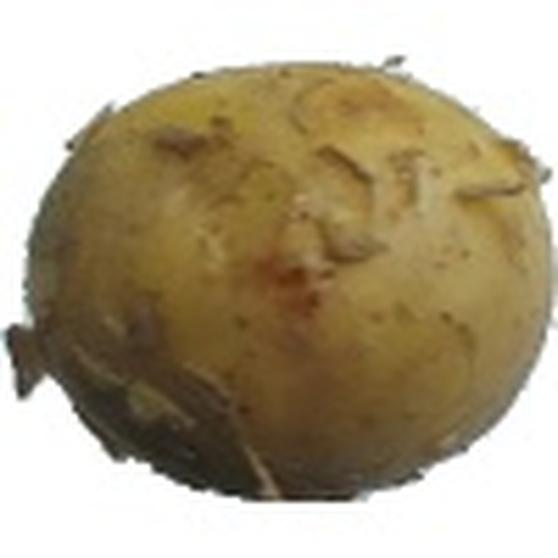potato: (23, 61, 551, 497)
